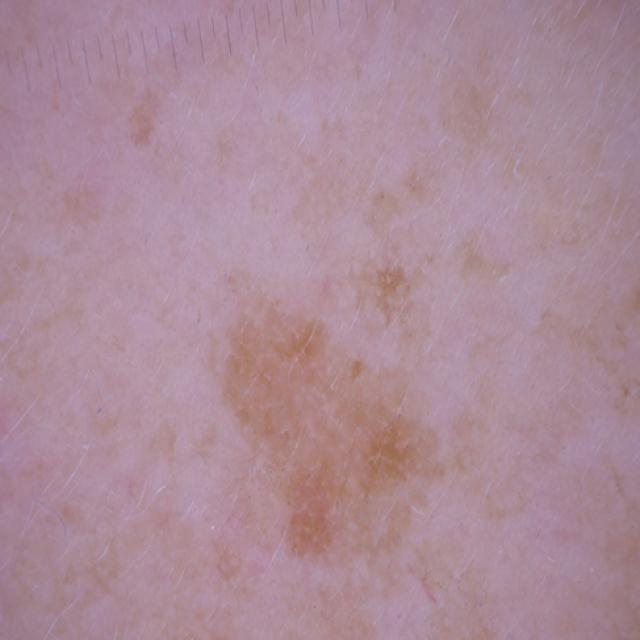Keratosis: (0, 245, 210, 617), (407, 90, 628, 328), (235, 353, 434, 533)
